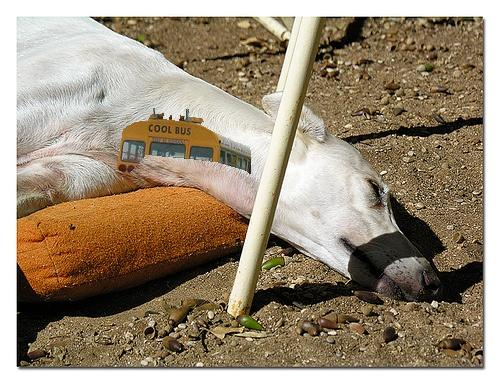tampered: (118, 109, 251, 174)
